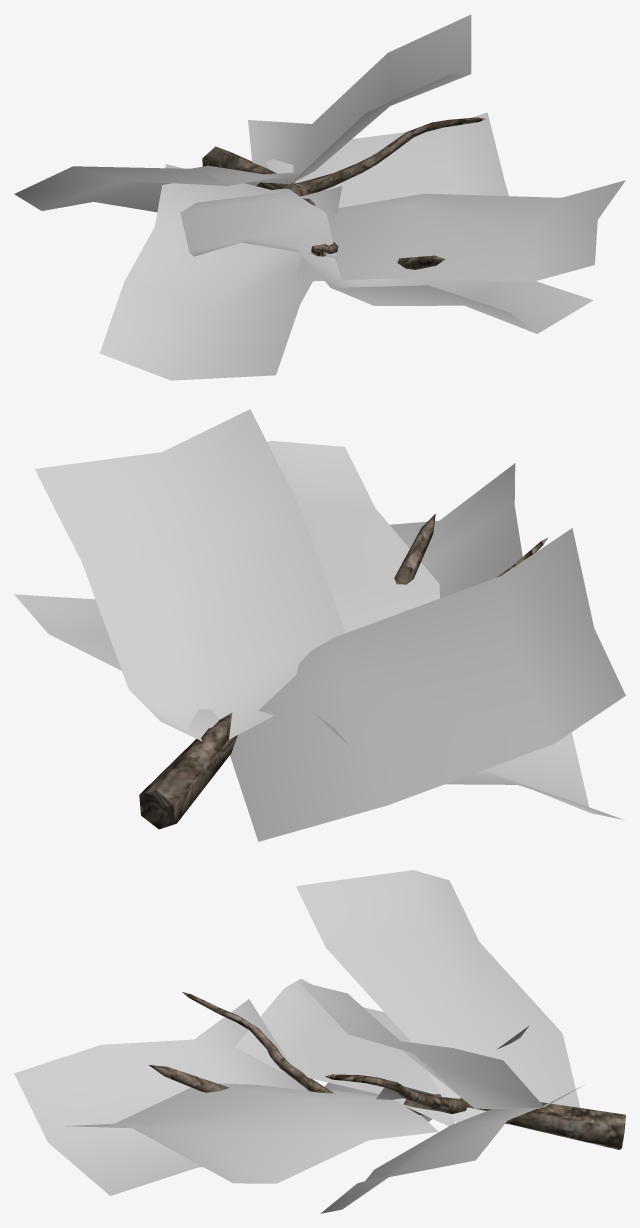
Rendered from SM_OakBranchGreenB_1.fbx.
3 views of the same model, one above another, from view 1: azimuth 30°, elevation 25°; view 2: azimuth 150°, elevation 25°; view 3: azimuth 270°, elevation 25° (orthographic). The views are drawn at different scales.
Parts seen in each view (by area): view 1: greenBranch_oak_small_1; view 2: greenBranch_oak_small_1; view 3: greenBranch_oak_small_1.
Boxes of the visible parts, x1,y1,x2,y2 form: greenBranch_oak_small_1: (14, 14, 625, 380); greenBranch_oak_small_1: (14, 409, 625, 841); greenBranch_oak_small_1: (14, 870, 625, 1213).
Bounding box in the file's own units: 3.05 × 1.39 × 2.97.
